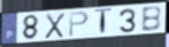3: (118, 7, 138, 34)
8: (21, 14, 41, 41)
B: (140, 5, 163, 33)
P: (68, 10, 91, 38)
T: (93, 7, 114, 36)
X: (44, 12, 67, 40)
